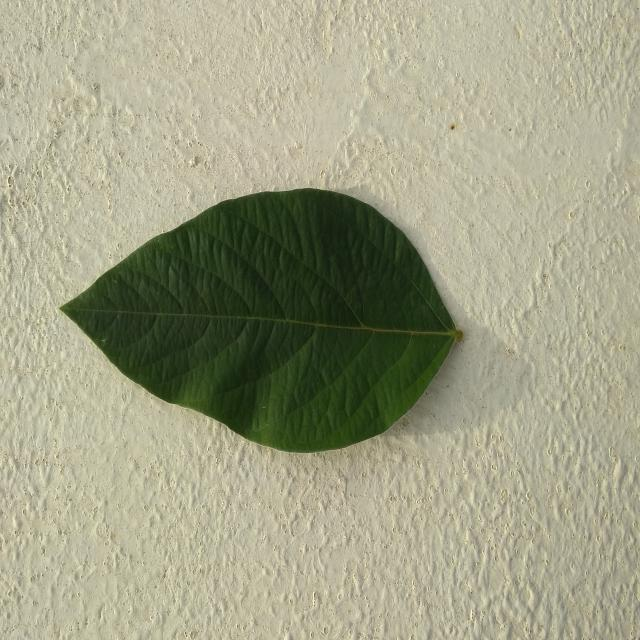pea: (61, 189, 462, 451)
